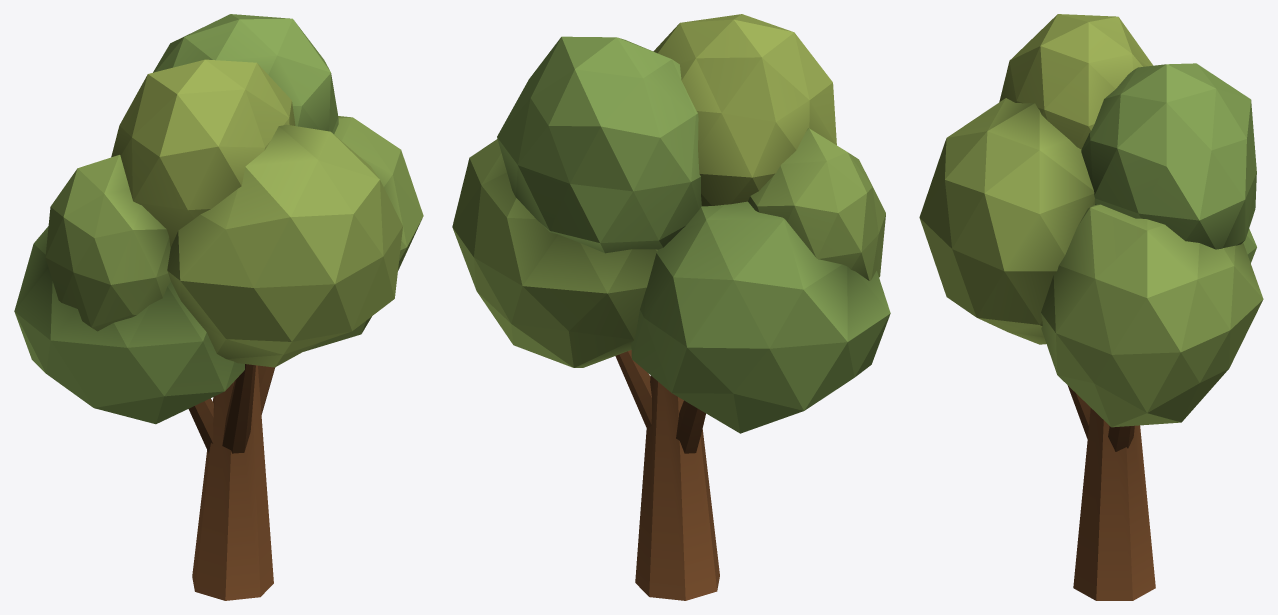
File: grove-tree.glb
The picture shows the model from 3 angles, left to right: view 1: azimuth 30°, elevation 25°; view 2: azimuth 150°, elevation 25°; view 3: azimuth 270°, elevation 25°; orthographic projection. The views are drawn at different scales.
Parts seen in each view (by area): view 1: Icosphere.002, Icosphere.003, Icosphere, Icosphere.005, Cone, Icosphere.004, Icosphere.001, Cone.003, Cone.002; view 2: Icosphere, Icosphere.004, Icosphere.001, Icosphere.003, Cone, Icosphere.005, Cone.001, Cone.002; view 3: Icosphere.001, Icosphere.002, Icosphere.004, Icosphere.003, Cone, Cone.001.
Part boxes in pixels (x1,y1,x2,y2): Icosphere.002: (167,124,402,367); Icosphere.003: (111,59,295,246); Icosphere: (14,226,244,424); Icosphere.005: (45,155,170,331); Cone: (192,365,273,600); Icosphere.004: (153,14,338,133); Icosphere.001: (304,116,423,351); Cone.003: (222,364,255,453); Cone.002: (188,398,213,453); Icosphere: (631,201,890,433); Icosphere.004: (497,36,701,253); Icosphere.001: (452,139,657,367); Icosphere.003: (653,14,836,206); Cone: (635,375,719,600); Icosphere.005: (748,128,885,280); Cone.001: (615,350,651,429); Cone.002: (676,400,705,453); Icosphere.001: (1041,204,1263,427); Icosphere.002: (919,98,1094,344); Icosphere.004: (1081,63,1256,249); Icosphere.003: (999,14,1152,149); Cone: (1073,408,1155,600); Cone.001: (1108,425,1134,451).
Bounding box in the file's own units: 1.36 × 1.84 × 1.06.
